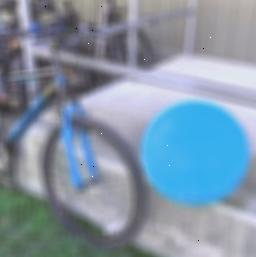algae: (137, 96, 254, 208)
